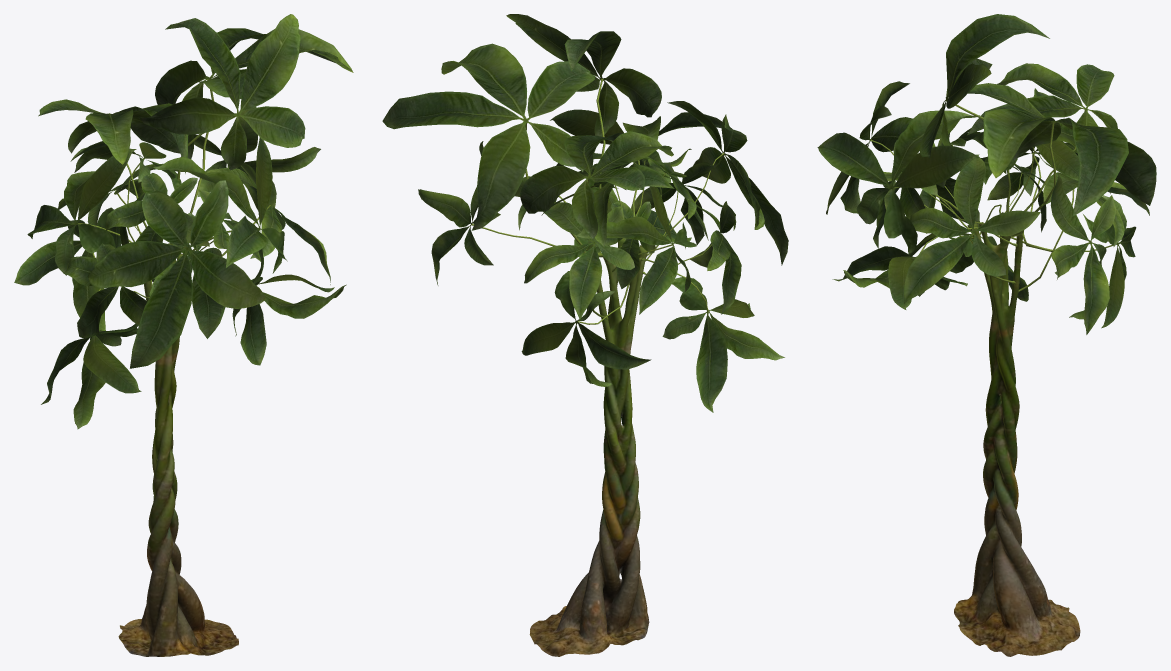
The model's file is pachira_aquatica_01_a.gltf.
3 renders of one model, left to right at view 1: azimuth 30°, elevation 25°; view 2: azimuth 150°, elevation 25°; view 3: azimuth 270°, elevation 25°, orthographic. The views are drawn at different scales.
Parts seen in each view (by area): view 1: pachira_aquatica_01_leaves_a, pachira_aquatica_01_bark_a; view 2: pachira_aquatica_01_leaves_a, pachira_aquatica_01_bark_a; view 3: pachira_aquatica_01_leaves_a, pachira_aquatica_01_bark_a.
Part boxes in pixels (x1,y1,x2,y2): pachira_aquatica_01_leaves_a: (14, 14, 353, 429); pachira_aquatica_01_bark_a: (118, 243, 238, 656); pachira_aquatica_01_leaves_a: (382, 14, 788, 412); pachira_aquatica_01_bark_a: (529, 238, 649, 656); pachira_aquatica_01_leaves_a: (817, 14, 1156, 334); pachira_aquatica_01_bark_a: (954, 212, 1080, 656).
Bounding box in the file's own units: 0.7439 × 1.3 × 0.6465.
Materials: 2 (2 with a texture image).
